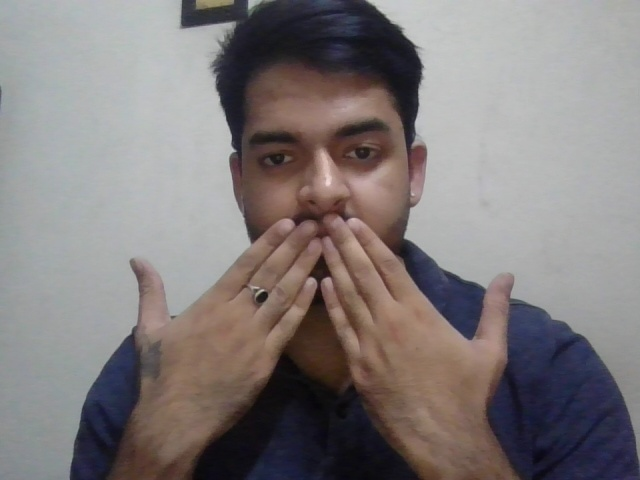thanks: (128, 212, 516, 450)
